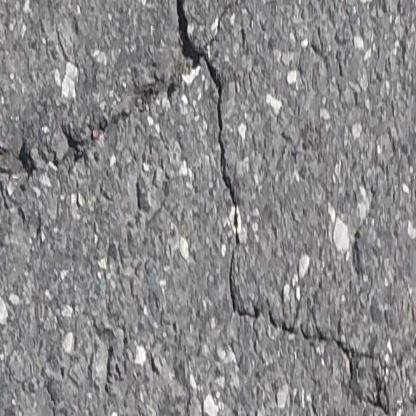Cracks: (0, 0, 402, 416), (405, 228, 416, 416)
